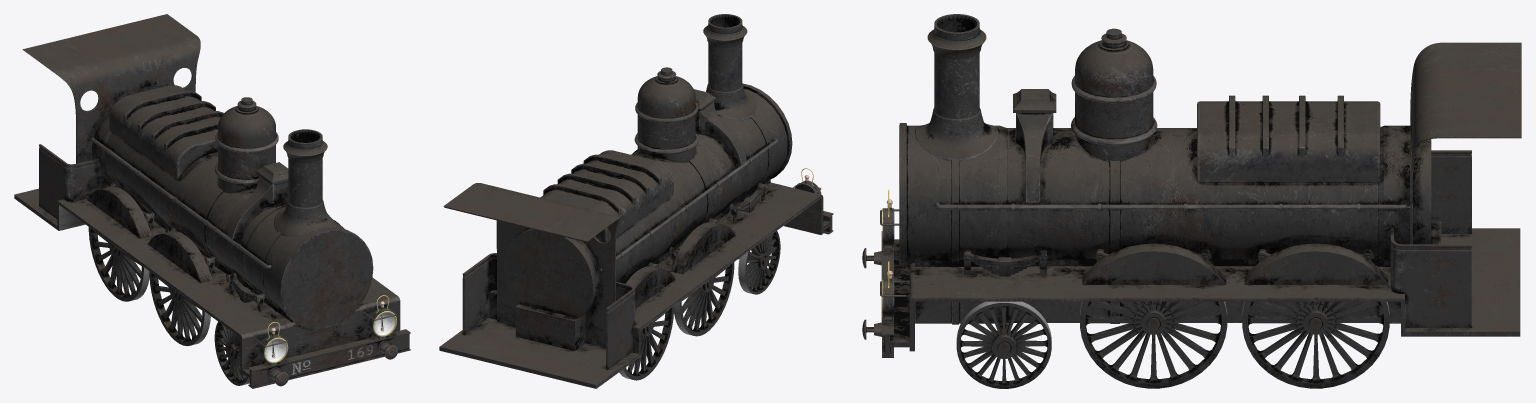
The model's file is train2.gltf.
3 renders of one model, left to right at view 1: azimuth 30°, elevation 25°; view 2: azimuth 150°, elevation 25°; view 3: azimuth 270°, elevation 25°, orthographic. The views are drawn at different scales.
Visible parts, largest first — view 1: Boiler, Boiler Base, Boiler Cab, Boiler Cab F_Bigwheel, Boiler Cab B_Bigwheel, Boiler Cab F_Smallwheel; view 2: Boiler, Boiler Cab, Boiler Base, Boiler Cab F_Bigwheel, Boiler Cab F_Smallwheel, Boiler Cab B_Bigwheel; view 3: Boiler, Boiler Cab, Boiler Base, Boiler Cab B_Bigwheel, Boiler Cab F_Bigwheel, Boiler Cab F_Smallwheel.
Part boxes in pixels (x1,y1,x2,y2): Boiler: (91, 85, 373, 329); Boiler Base: (14, 136, 410, 388); Boiler Cab: (22, 14, 212, 283); Boiler Cab F_Bigwheel: (149, 271, 210, 346); Boiler Cab B_Bigwheel: (88, 227, 149, 301); Boiler Cab F_Smallwheel: (214, 321, 249, 385); Boiler: (504, 14, 792, 350); Boiler Cab: (443, 183, 735, 370); Boiler Base: (439, 138, 833, 388); Boiler Cab F_Bigwheel: (674, 262, 734, 336); Boiler Cab F_Smallwheel: (738, 231, 780, 294); Boiler Cab B_Bigwheel: (619, 306, 673, 380); Boiler: (899, 14, 1441, 324); Boiler Cab: (1082, 42, 1521, 327); Boiler Base: (862, 190, 1520, 357); Boiler Cab B_Bigwheel: (1242, 301, 1389, 388); Boiler Cab F_Bigwheel: (1080, 301, 1227, 388); Boiler Cab F_Smallwheel: (956, 301, 1051, 388).
Bounding box in the file's own units: 13.53 × 20.16 × 36.56.
